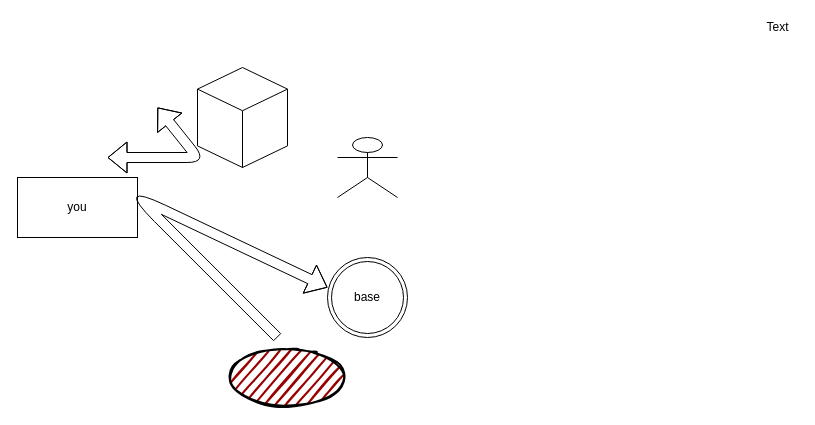
This 815x425 diagram has some shape labels left out. Each missing label, with the centre of its shape:
"Actor" belongs at (367,167).
"halp" belongs at (287,377).
